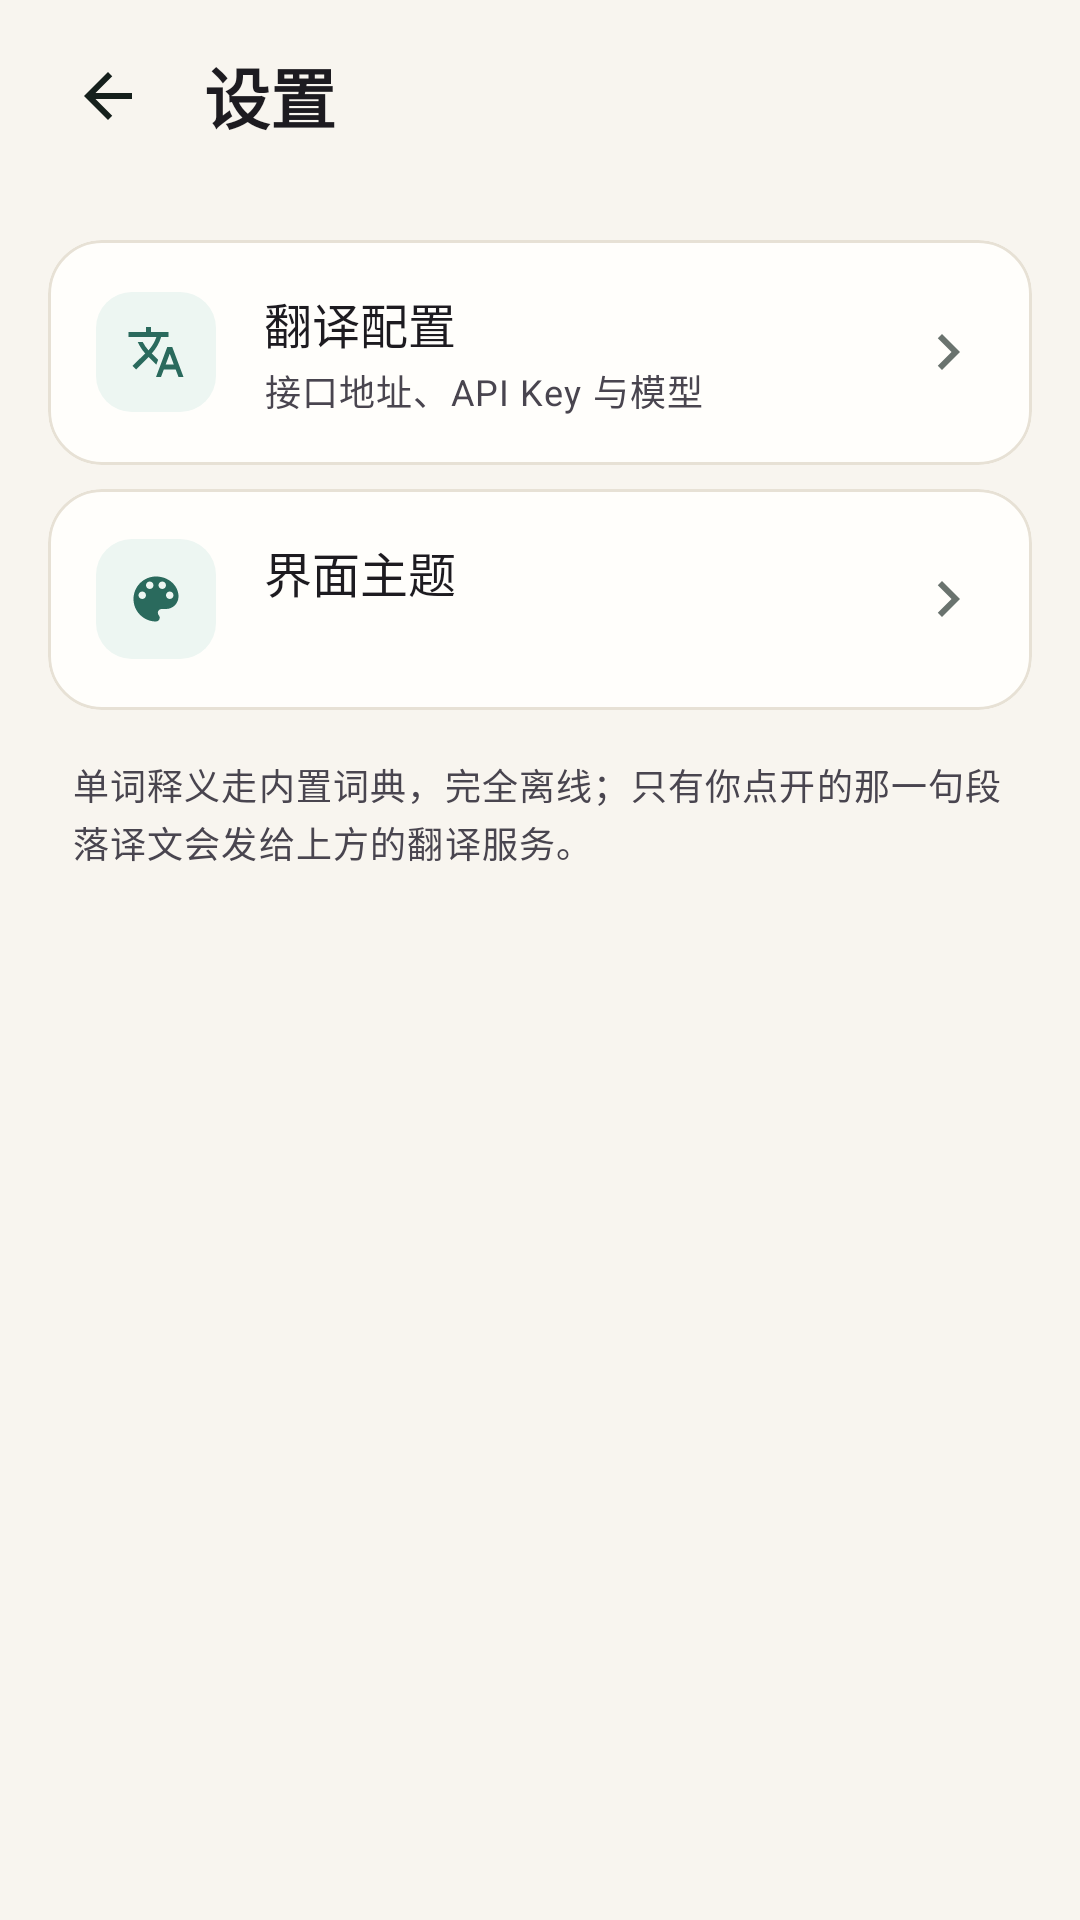

Where to tap for icons on this 1080x1920 app screen, as (x,y):
chevron right: (949,352), (949,599)
palette: (156,599)
translate: (156,352)
